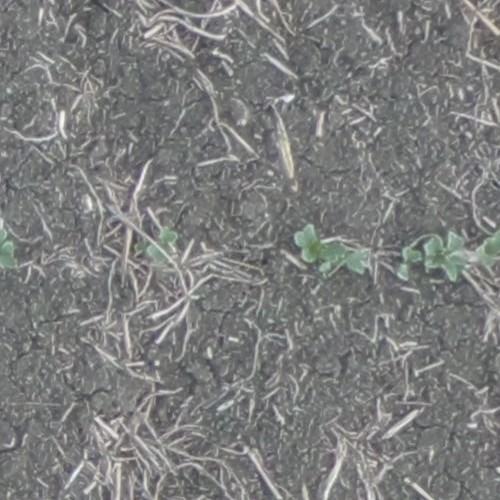plant: (296, 222, 366, 275), (424, 233, 466, 279), (474, 228, 499, 266), (396, 246, 418, 281), (0, 227, 16, 275)
